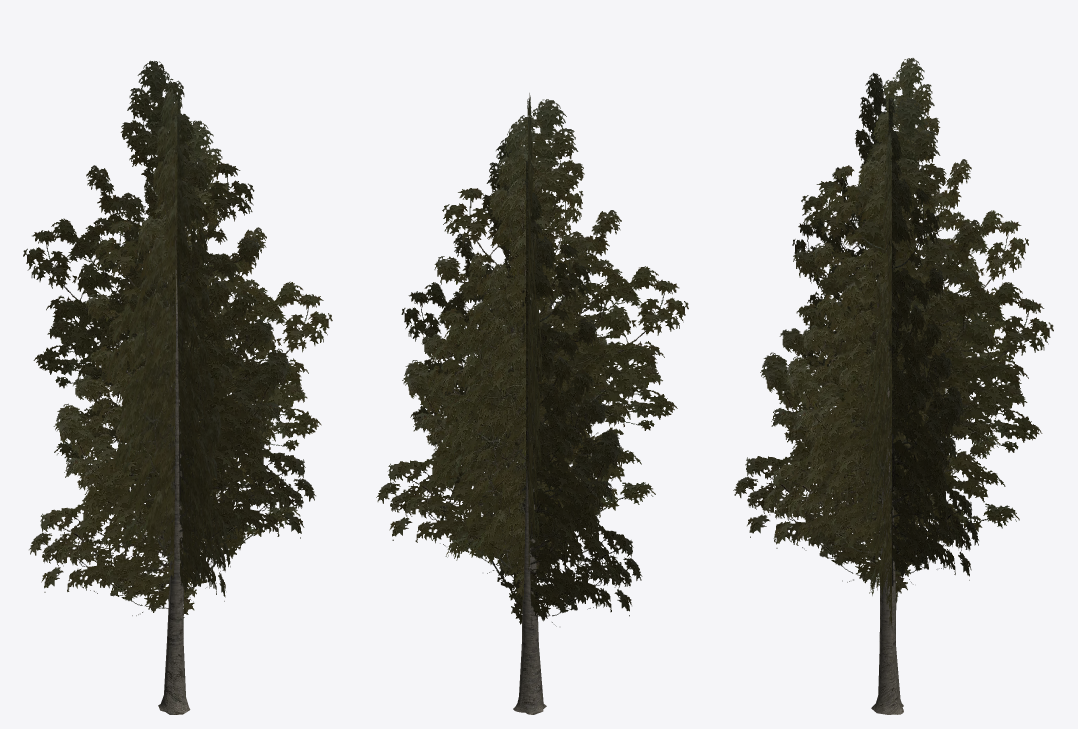
File: tree_rt_2.glb
3 views of the same model, side by side, from view 1: azimuth 30°, elevation 25°; view 2: azimuth 150°, elevation 25°; view 3: azimuth 270°, elevation 25° (orthographic). The views are drawn at different scales.
Visible parts, largest first — view 1: tree_rt_2; view 2: tree_rt_2; view 3: tree_rt_2.
Part boxes in pixels (x1=…): tree_rt_2: x1=23, y1=60, x2=332, y2=714; tree_rt_2: x1=376, y1=93, x2=688, y2=714; tree_rt_2: x1=733, y1=58, x2=1053, y2=714.
Size of the model in its own units: 2.3 by 4.91 by 2.3.
Materials: 2 (2 with a texture image).
